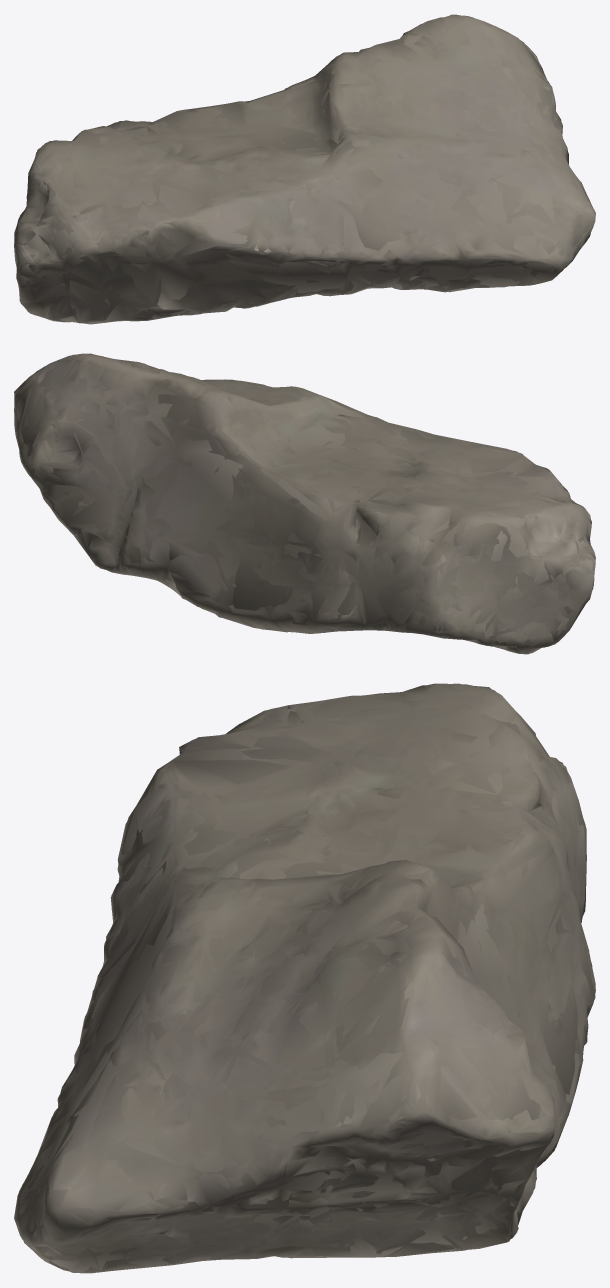
Rendered from moon_rock_01.glb.
3 views of the same model, one above another, from view 1: azimuth 30°, elevation 25°; view 2: azimuth 150°, elevation 25°; view 3: azimuth 270°, elevation 25° (orthographic). The views are drawn at different scales.
Visible parts, largest first — view 1: moon_rock_01_LOD0; view 2: moon_rock_01_LOD0; view 3: moon_rock_01_LOD0.
Part boxes in pixels (x1=…): moon_rock_01_LOD0: x1=14, y1=14, x2=595, y2=324; moon_rock_01_LOD0: x1=14, y1=353, x2=595, y2=654; moon_rock_01_LOD0: x1=14, y1=683, x2=595, y2=1273.
Bounding box in the file's own units: 0.2123 × 0.0753 × 0.1117.
Materials: 1 (1 with a texture image).
